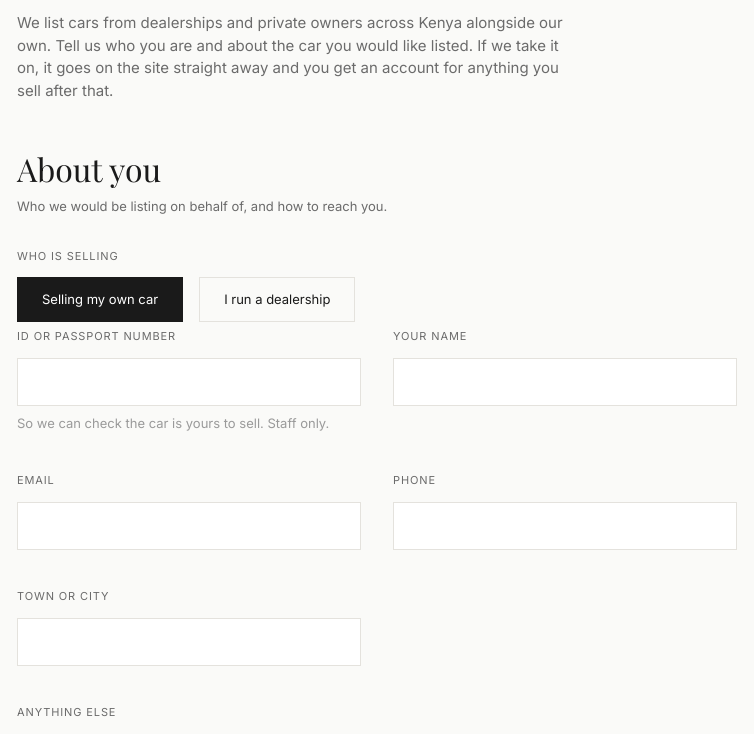
ListWithUs › lists what a dealership must send, and ticks each one off
This screenshot has width=754, height=734.
Click the radio button labelled "I run a dealership" at (277, 300), box [199, 277, 355, 322]
(page scrolled)
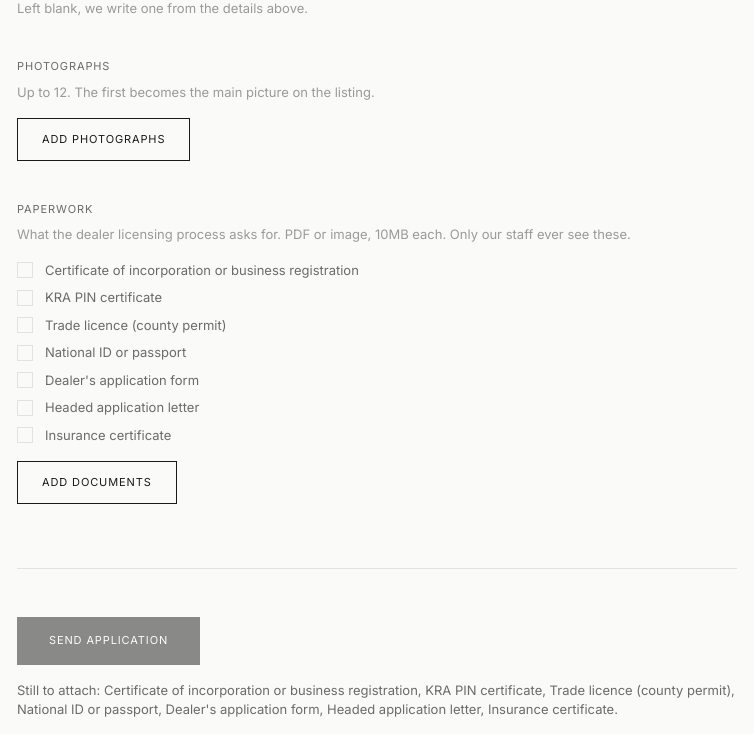
Expected: the text "Certificate of incorporation or business registration" is shown, [45, 261, 359, 280]
Expected: the text "Trade licence (county permit)" is shown, [45, 316, 226, 335]
Expected: the text "Dealer's application form" is shown, [45, 371, 199, 390]
